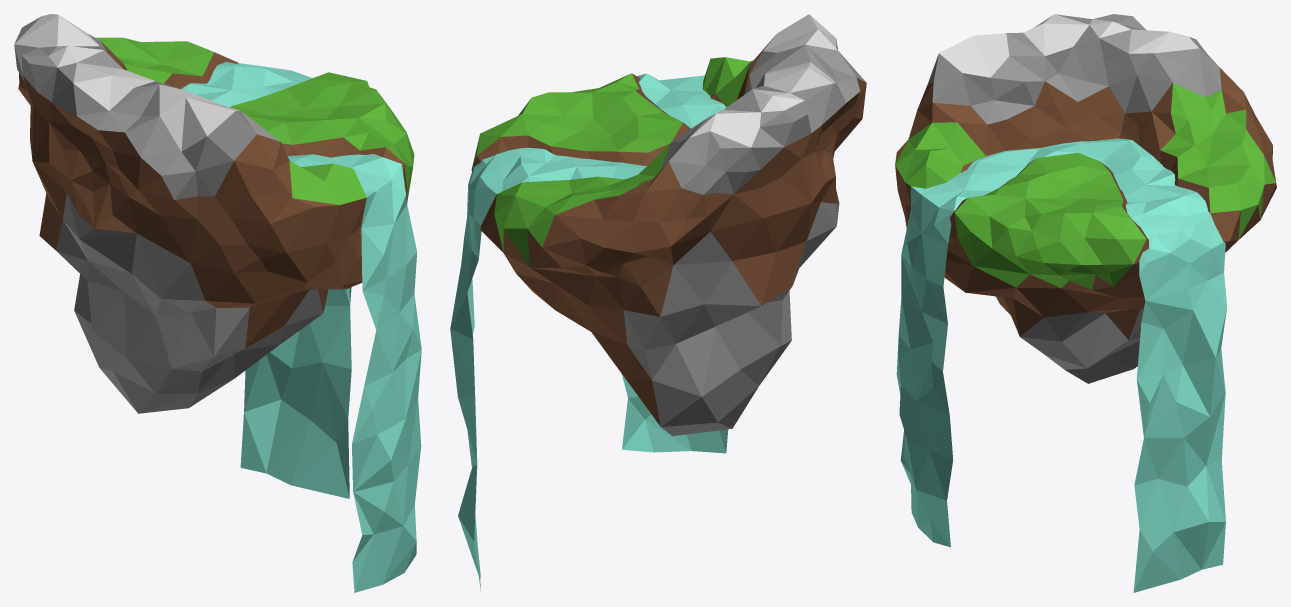
The model's file is island.glb.
The picture shows the model from 3 angles, left to right: view 1: azimuth 30°, elevation 25°; view 2: azimuth 150°, elevation 25°; view 3: azimuth 270°, elevation 25°; orthographic projection. The views are drawn at different scales.
Parts seen in each view (by area): view 1: Island, Water; view 2: Island, Water; view 3: Island, Water.
Boxes of the visible parts, box(x1,y1,x2,y2) form: Island: box(14, 14, 414, 413); Water: box(181, 62, 421, 592); Island: box(471, 14, 866, 436); Water: box(450, 73, 728, 591); Island: box(895, 14, 1276, 383); Water: box(896, 138, 1226, 592).
Size of the model in its own units: 3.39 by 5.07 by 3.89.
